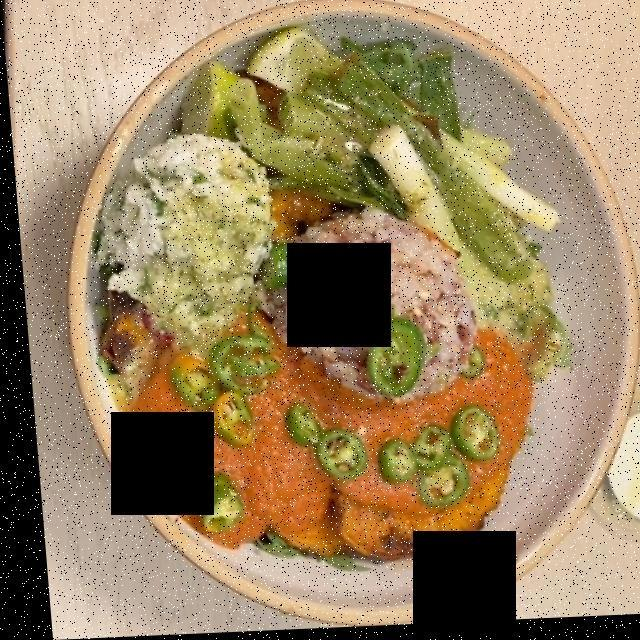cheese: (92, 135, 265, 353)
leek: (230, 45, 546, 294)
quinoa: (280, 206, 467, 404)
sweet-potato: (287, 390, 529, 565)
tomato-sauce: (126, 324, 524, 545)
